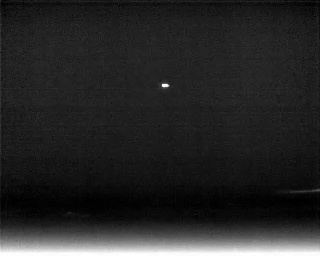AIRPLANE: (159, 80, 171, 91)
